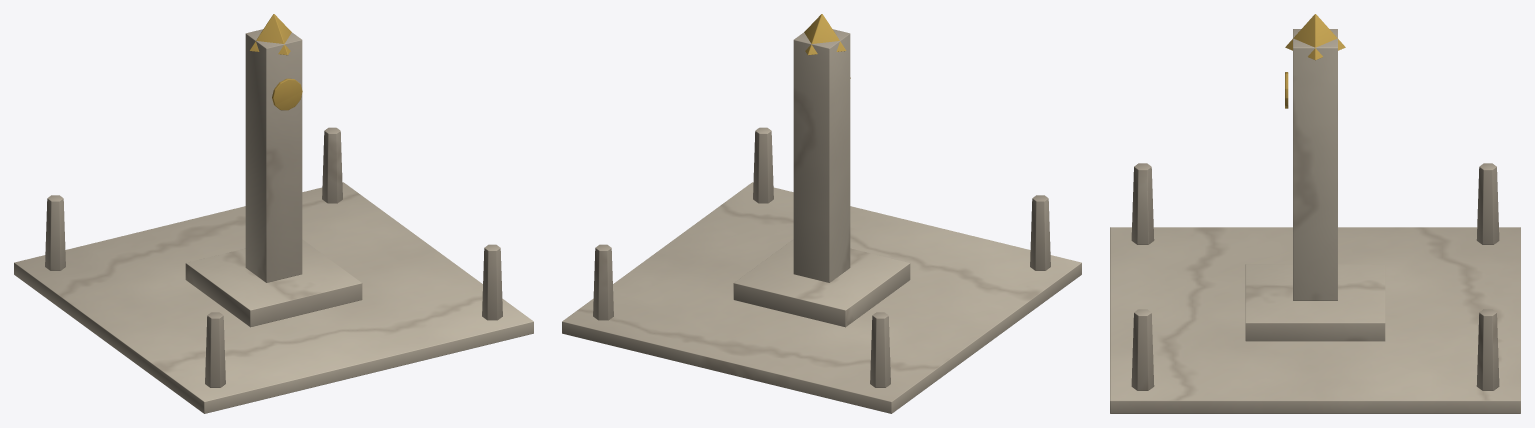
Rendered from building_church_sacred_site.fbx.
The picture shows the model from 3 angles, left to right: view 1: azimuth 30°, elevation 25°; view 2: azimuth 150°, elevation 25°; view 3: azimuth 270°, elevation 25°; orthographic projection. The views are drawn at different scales.
Parts seen in each view (by area): view 1: building_church_sacred_site; view 2: building_church_sacred_site; view 3: building_church_sacred_site.
Part boxes in pixels (bbox=[...]): building_church_sacred_site: bbox=[14, 14, 533, 413]; building_church_sacred_site: bbox=[562, 14, 1081, 413]; building_church_sacred_site: bbox=[1110, 14, 1520, 413].
Bounding box in the file's own units: 10 × 8.41 × 10.
